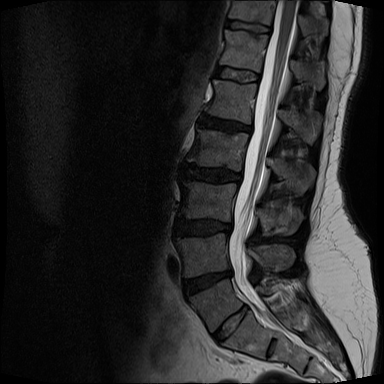Lumbar Disc Bulge (LDB): (179, 263, 237, 301), (194, 109, 256, 138), (173, 214, 238, 241), (182, 160, 244, 188)
Normal IVD: (209, 304, 252, 350), (214, 63, 262, 86), (222, 17, 275, 37)
Spinal Stenosis (SS): (220, 217, 238, 241), (229, 167, 245, 189), (223, 261, 238, 283), (245, 122, 258, 138)
